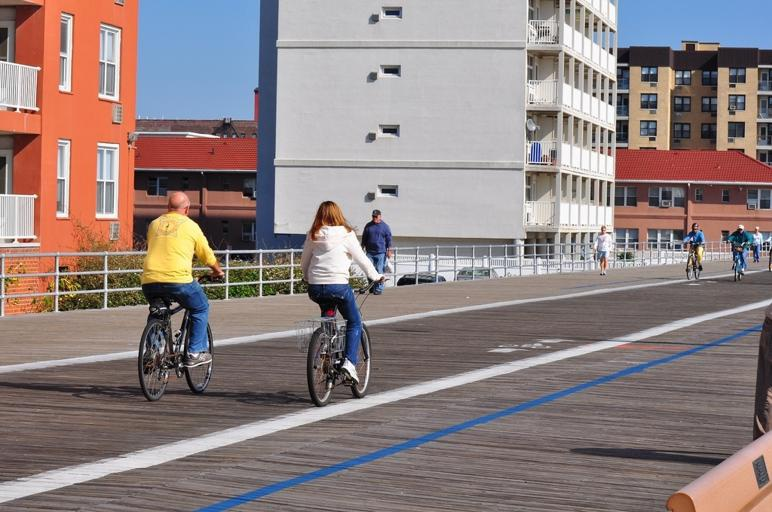non-vehicle: (137, 272, 225, 401), (306, 275, 389, 406), (726, 240, 747, 281), (683, 240, 701, 280)
